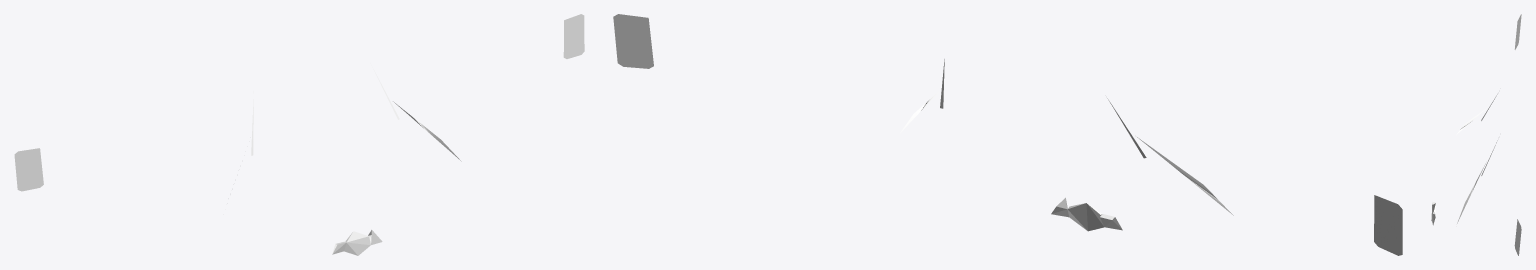
The picture shows the model from 3 angles, left to right: view 1: azimuth 30°, elevation 25°; view 2: azimuth 150°, elevation 25°; view 3: azimuth 270°, elevation 25°; orthographic projection. The views are drawn at different scales.
Bounding box in the file's own units: 3.09 × 0.7618 × 0.5487.
Materials: 1 (1 with a texture image).
